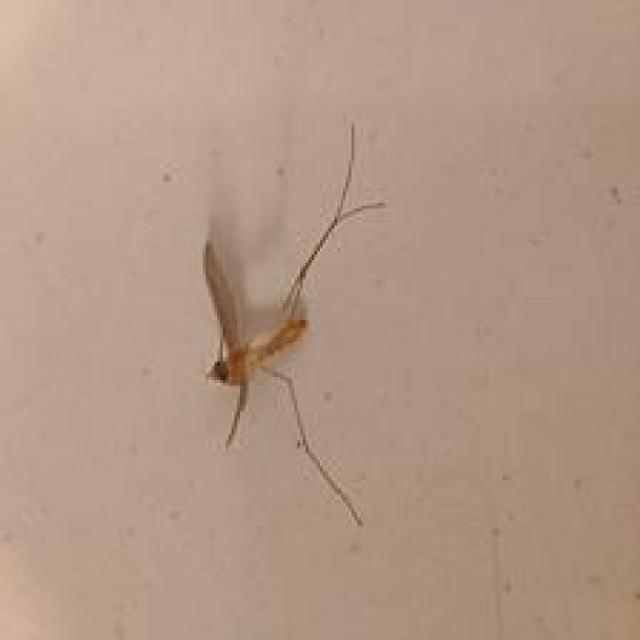Culex: (199, 120, 387, 529)
